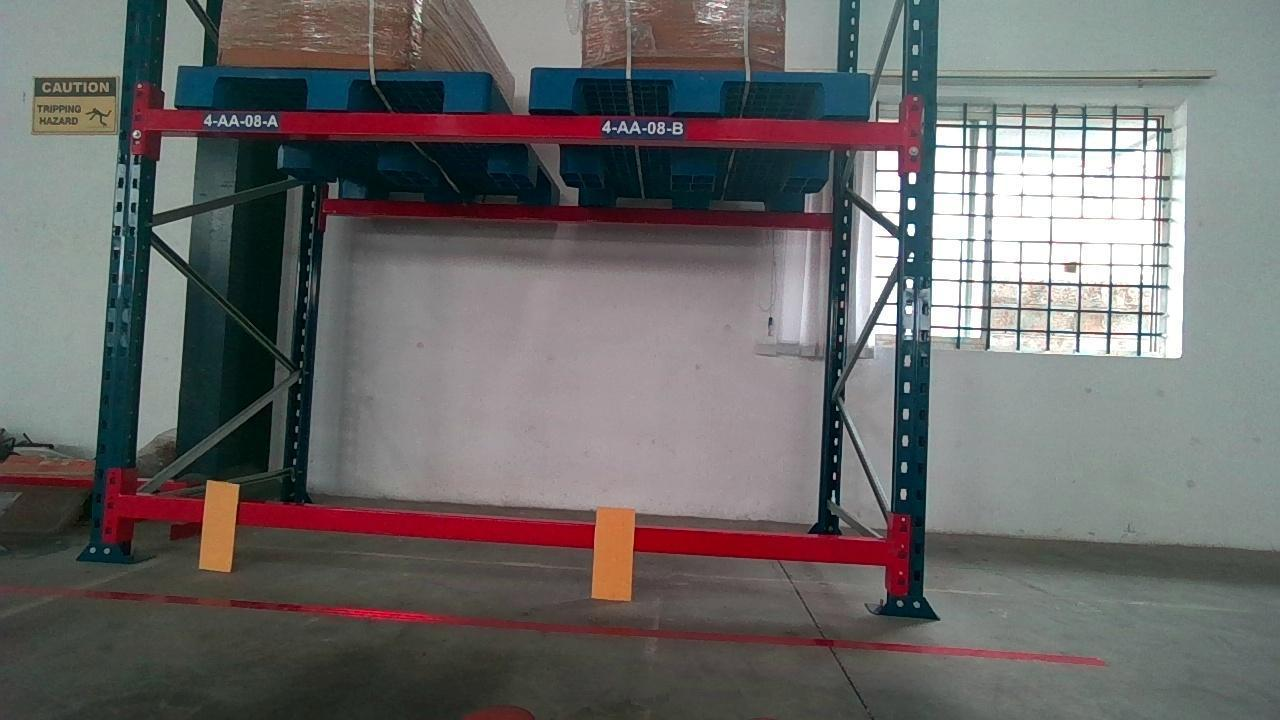h_rack: (119, 496, 891, 565), (143, 108, 905, 151)
orange_strip: (592, 507, 634, 599), (198, 480, 238, 569)
red_line: (35, 584, 1107, 664)
small_pallet: (537, 68, 869, 114), (177, 66, 485, 110)
